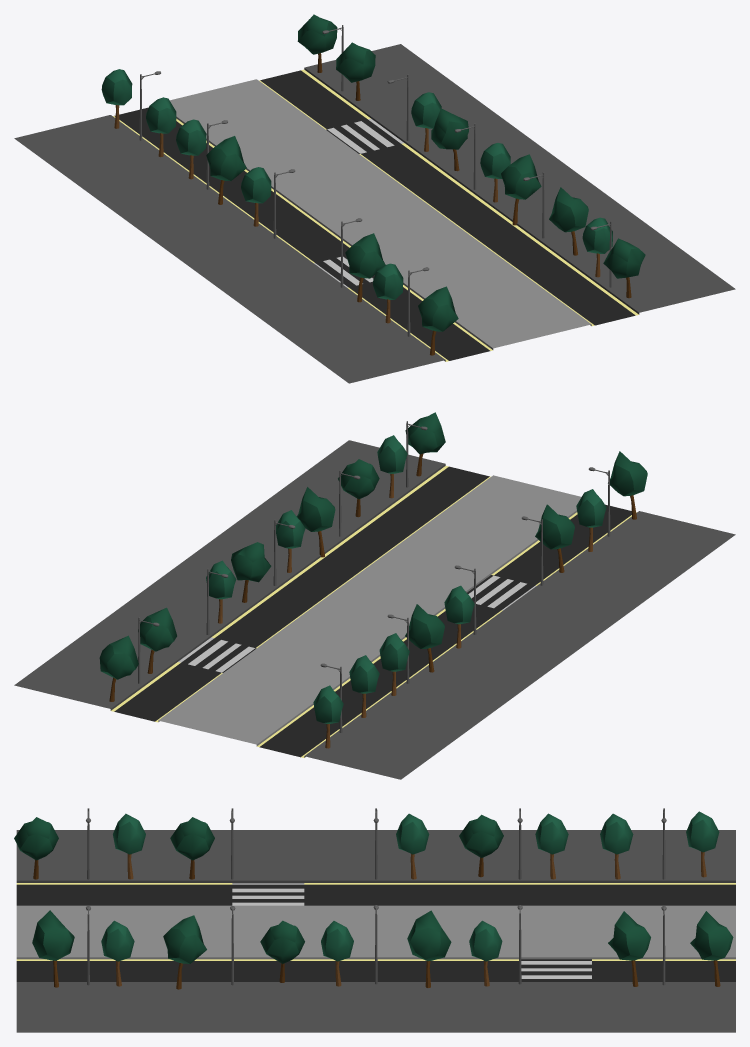
Rendered from Block01.fbx.
3 views of the same model, one above another, from view 1: azimuth 30°, elevation 25°; view 2: azimuth 150°, elevation 25°; view 3: azimuth 270°, elevation 25° (orthographic). The views are drawn at different scales.
Visible parts, largest first — view 1: Block01; view 2: Block01; view 3: Block01.
Boxes of the visible parts, x1=… form: Block01: x1=14, y1=14, x2=735, y2=383; Block01: x1=14, y1=412, x2=735, y2=779; Block01: x1=14, y1=808, x2=735, y2=1032.
Bounding box in the file's own units: 2000 × 336 × 3011.
2 materials, 1 textured.
